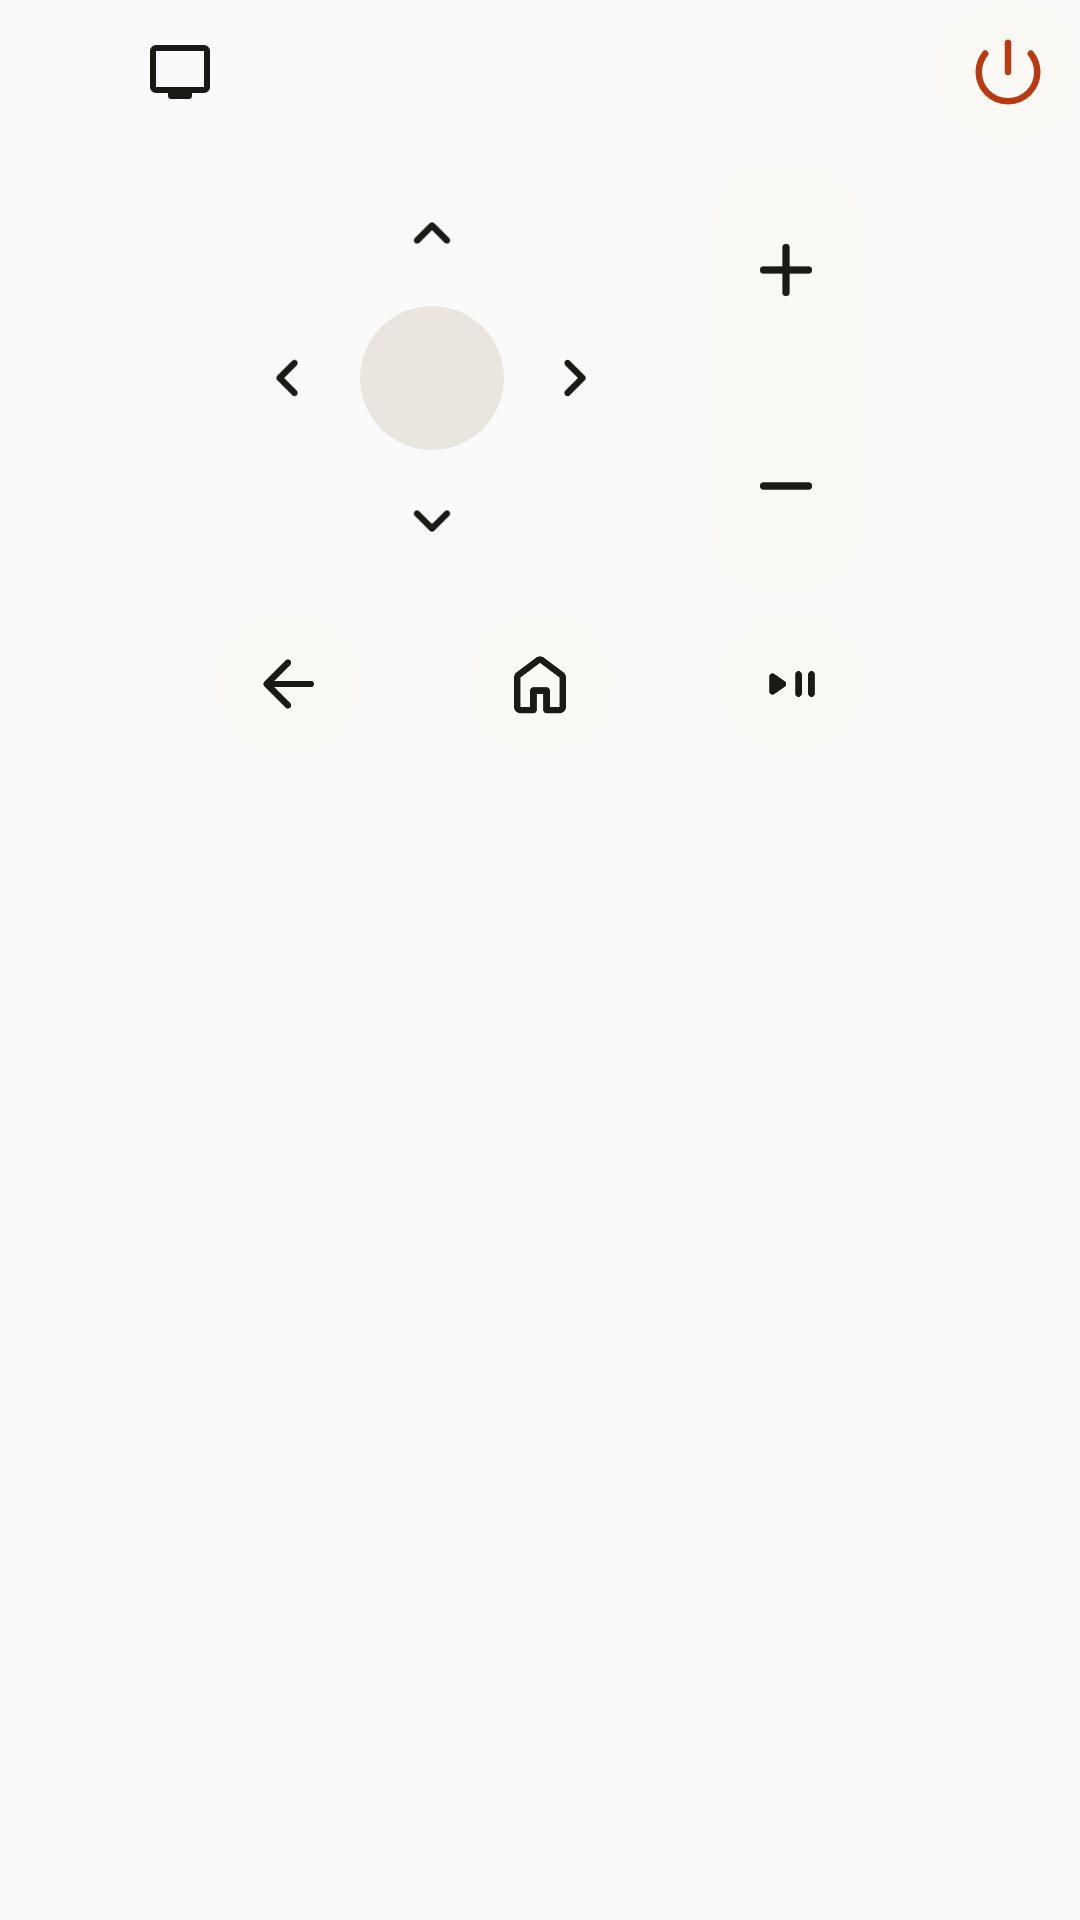

Locate icon controls on the screen. Image size 1080px×1920px, boxes as (x1, y1, x2, y2).
sym add: (760, 244, 812, 296)
sym arrow back: (263, 659, 314, 709)
sym home: (514, 656, 566, 714)
sym keyboard arrow down: (413, 510, 451, 532)
sym keyboard arrow left: (276, 359, 298, 397)
sym keyboard arrow right: (564, 359, 586, 397)
sym keyboard arrow up: (413, 222, 451, 244)
sym play pause: (769, 671, 815, 697)
sym power settings: (975, 39, 1041, 105)
sym tv: (150, 45, 210, 99)
